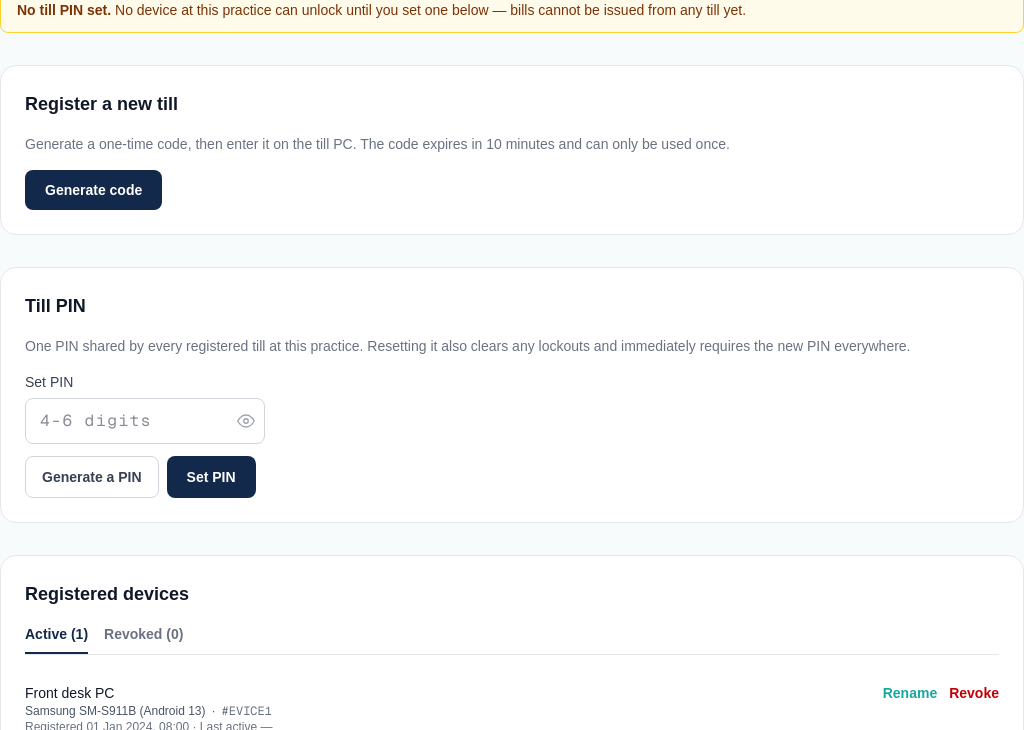
Scenario: DeviceAdminView — device name + model + rename › renames a device through relabelDevice and reflects the new name
Click the button with test id "rename-device-1".
click(910, 693)  # box [883,683,937,703]
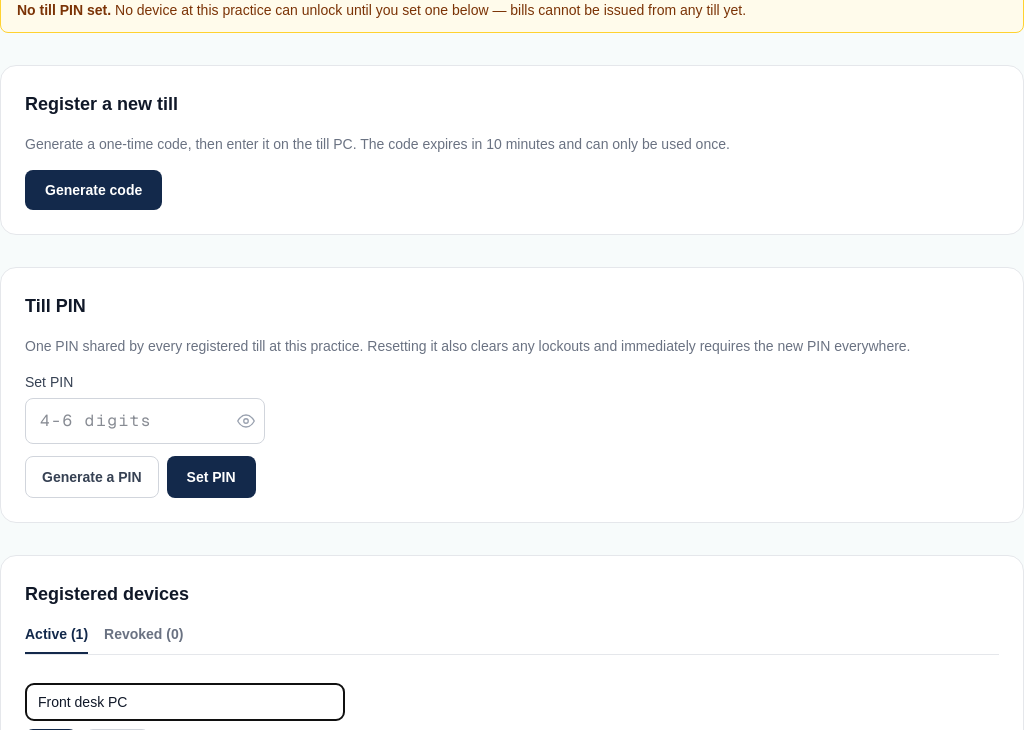
Replace the text in the field with test id "rename-input-device-1" with "Reception iPad" at coordinates (185, 702), box [25,683,345,721]
(page scrolled)
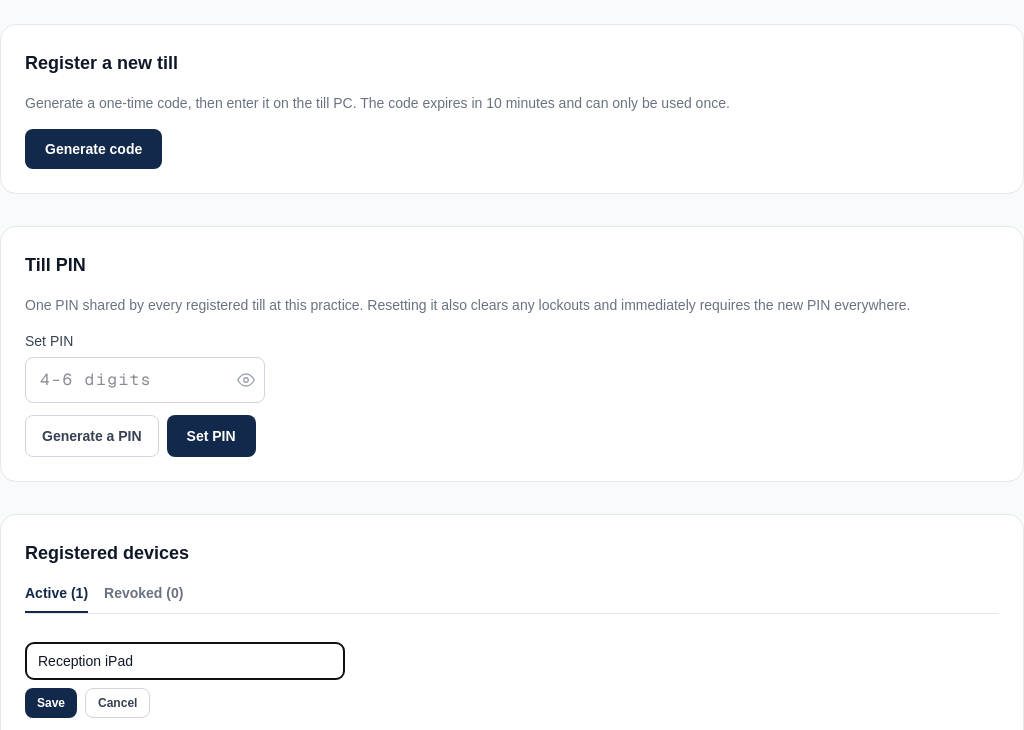
Click the button with test id "rename-save-device-1".
click(51, 703)  # box [25,688,77,718]
(page scrolled)
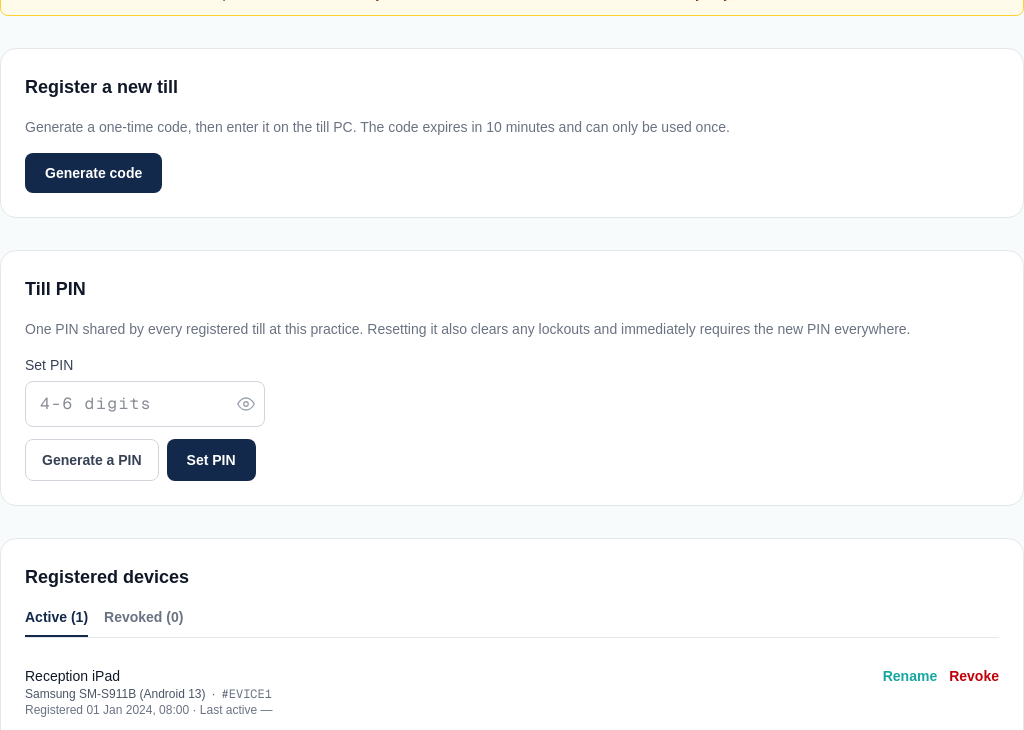
Result: the text "Reception iPad" is shown at [25,668,120,684]
